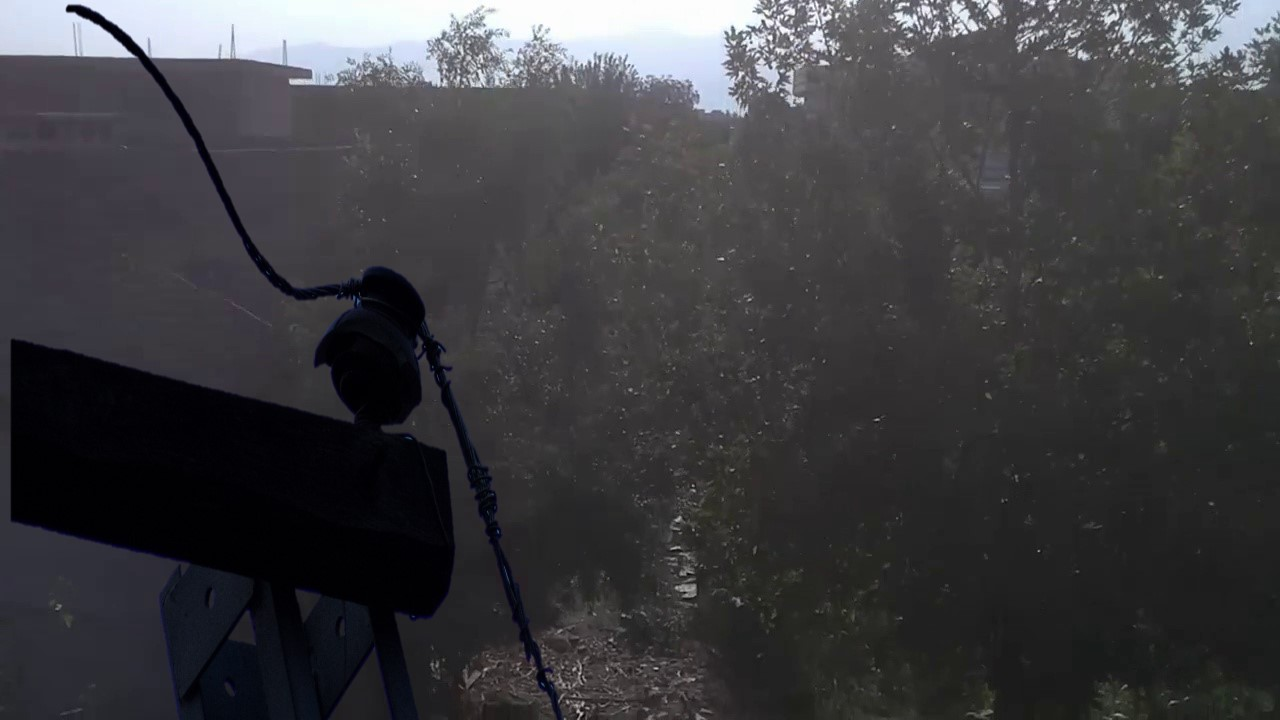defect_pin: (311, 261, 431, 431)
